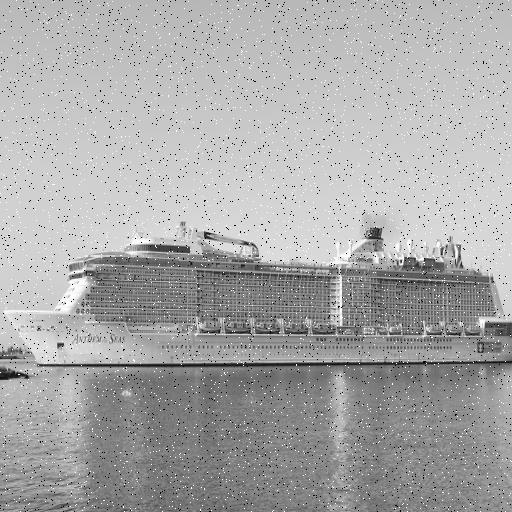cruises: (1, 211, 512, 373)
